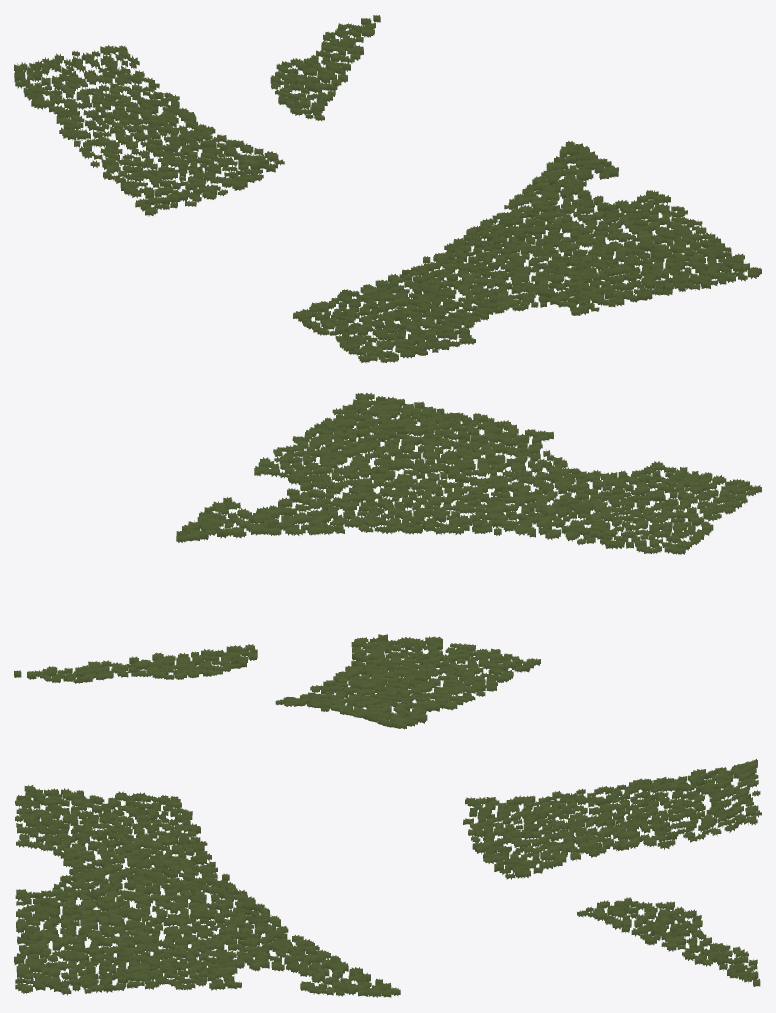
The model's file is TRB8-GRASS-CHUNK-7-3.glb.
3 renders of one model, top to bottom at view 1: azimuth 30°, elevation 25°; view 2: azimuth 150°, elevation 25°; view 3: azimuth 270°, elevation 25°, orthographic. The views are drawn at different scales.
Parts seen in each view (by area): view 1: TRB8-GRASS-CHUNK-7-3; view 2: TRB8-GRASS-CHUNK-7-3; view 3: TRB8-GRASS-CHUNK-7-3.
Part boxes in pixels (box(x1,y1,x2,y2)): TRB8-GRASS-CHUNK-7-3: box(14, 15, 761, 363); TRB8-GRASS-CHUNK-7-3: box(14, 392, 761, 729); TRB8-GRASS-CHUNK-7-3: box(14, 759, 761, 997).
Size of the model in its own units: 25.63 by 2.89 by 40.52.
Materials: 1 (1 with a texture image).
